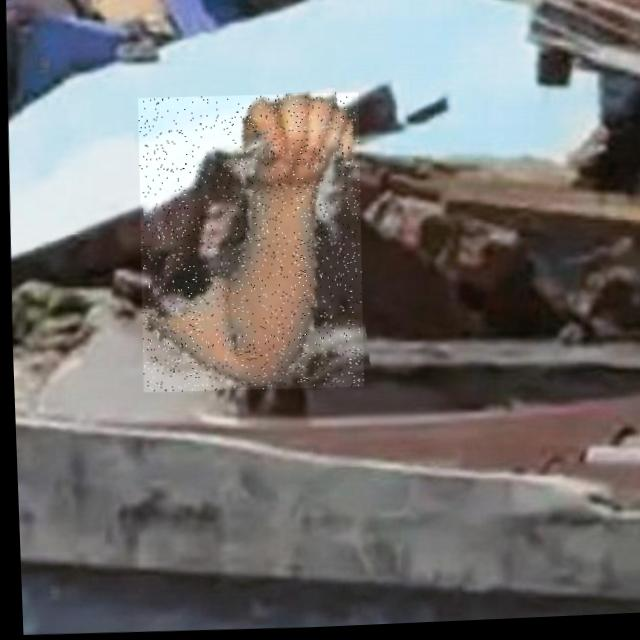Person in Rubble: (132, 91, 365, 397)
